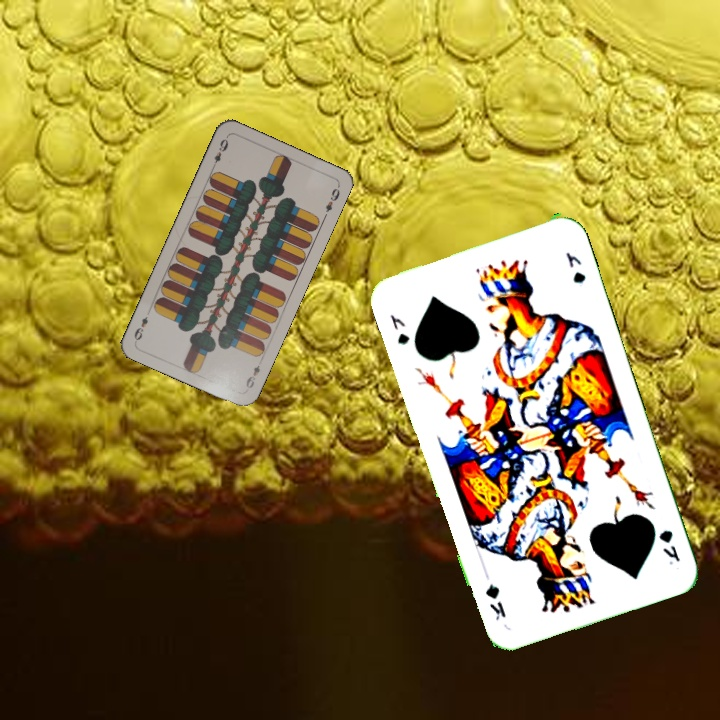E9: (208, 133, 231, 171), (242, 361, 263, 391)
GK: (655, 526, 683, 568), (385, 310, 413, 348)
